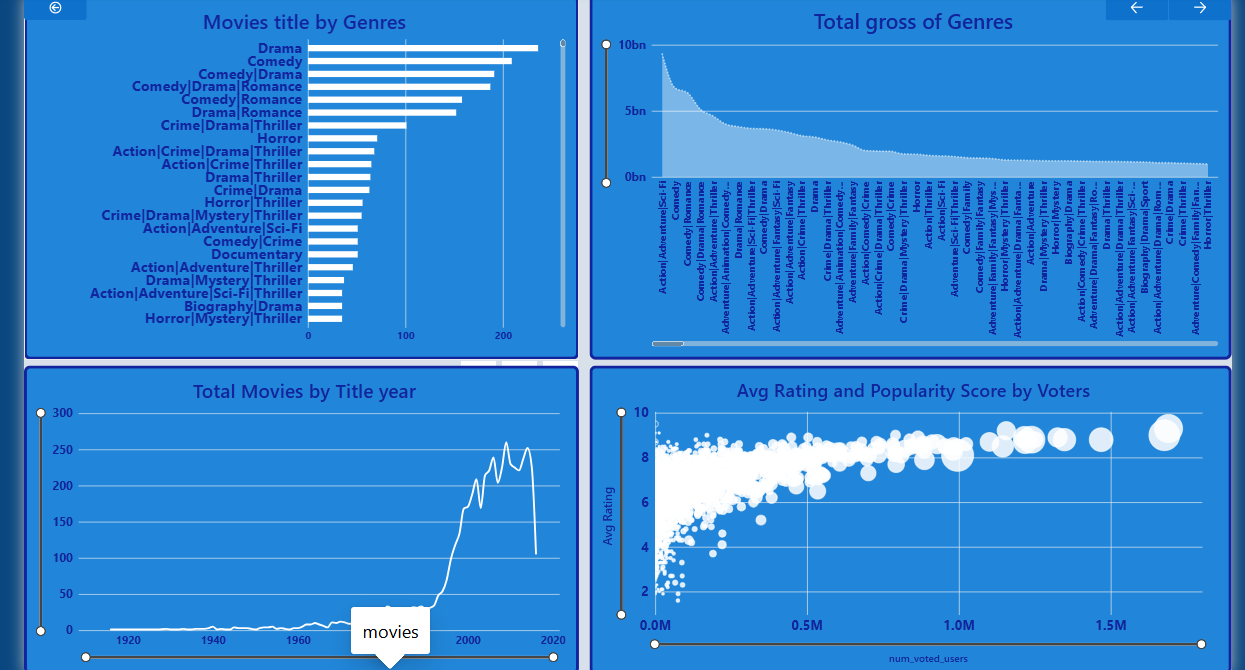

This screenshot's page, from the dashboard's own definition file:
{"tool":"powerbi","page":{"name":"movies and avg ratings","canvas":[1920,1080],"ordinal":1},"visuals":[{"type":"clusteredBarChart","title":"Movies title by Genres","fields":{"Category":["IMDBMovies.genres"],"Y":["CountNonNull(IMDBMovies.movie_title)"]},"box":[0,0,882.8,579.8],"z":0},{"type":"areaChart","title":"Total gross of Genres","fields":{"Y":["Sum(IMDBMovies.gross)"],"Category":["IMDBMovies.genres"]},"box":[899.5,16.7,1021.2,563.1],"z":1000},{"type":"lineChart","title":"Total Movies by Title year","fields":{"Y":["CountNonNull(IMDBMovies.movie_title)"],"Category":["IMDBMovies.title_year"]},"box":[0,589.3,882.8,491.5],"z":2000},{"type":"scatterChart","title":"Avg Rating and Popularity Score by Voters","fields":{"X":["IMDBMovies.num_voted_users"],"Y":["IMDBMovies.Avg Rating"],"Size":["IMDBMovies.Popularity Score"]},"box":[899.5,589.3,1021.2,491.5],"z":3000},{"type":"actionButton","box":[0,0,100,40],"z":4000}]}

Visuals, with their boxes in screenshot pixels (x1, y1, x2, y2):
"Movies title by Genres" clusteredBarChart: 16/0/577/359
"Total gross of Genres" areaChart: 588/1/1237/359
"Total Movies by Title year" lineChart: 16/365/577/669
"Avg Rating and Popularity Score by Voters" scatterChart: 588/365/1237/669
actionButton: 16/0/80/16
